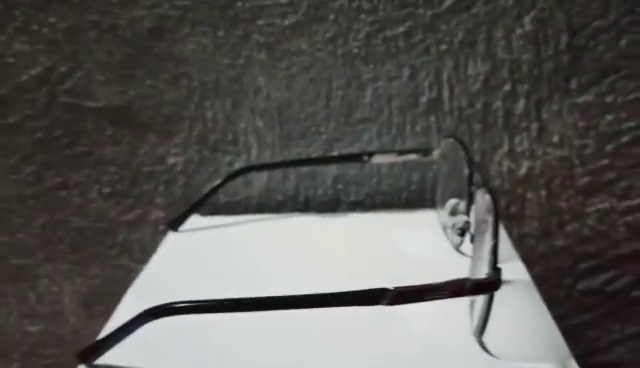glasses: (80, 138, 510, 368)
